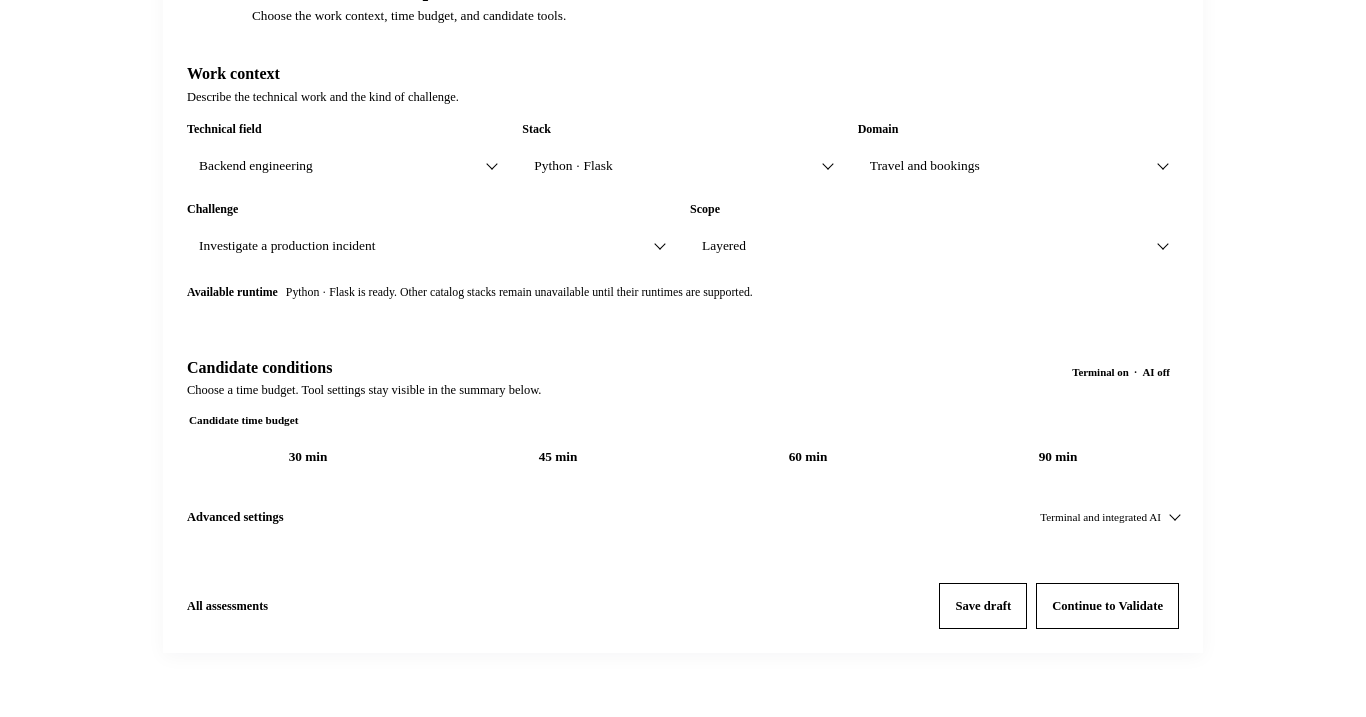
Test: assessment builder › confirms copied candidate links and exposes a selected fallback when clipboard access fails
The width and height of the screenshot is (1366, 717).
(page scrolled)
What coordinates should you click on to do the following:
click the button "Continue to Validate"
I would click on:
 (1108, 606)
Its box is [1036,584,1179,630].
(page scrolled)
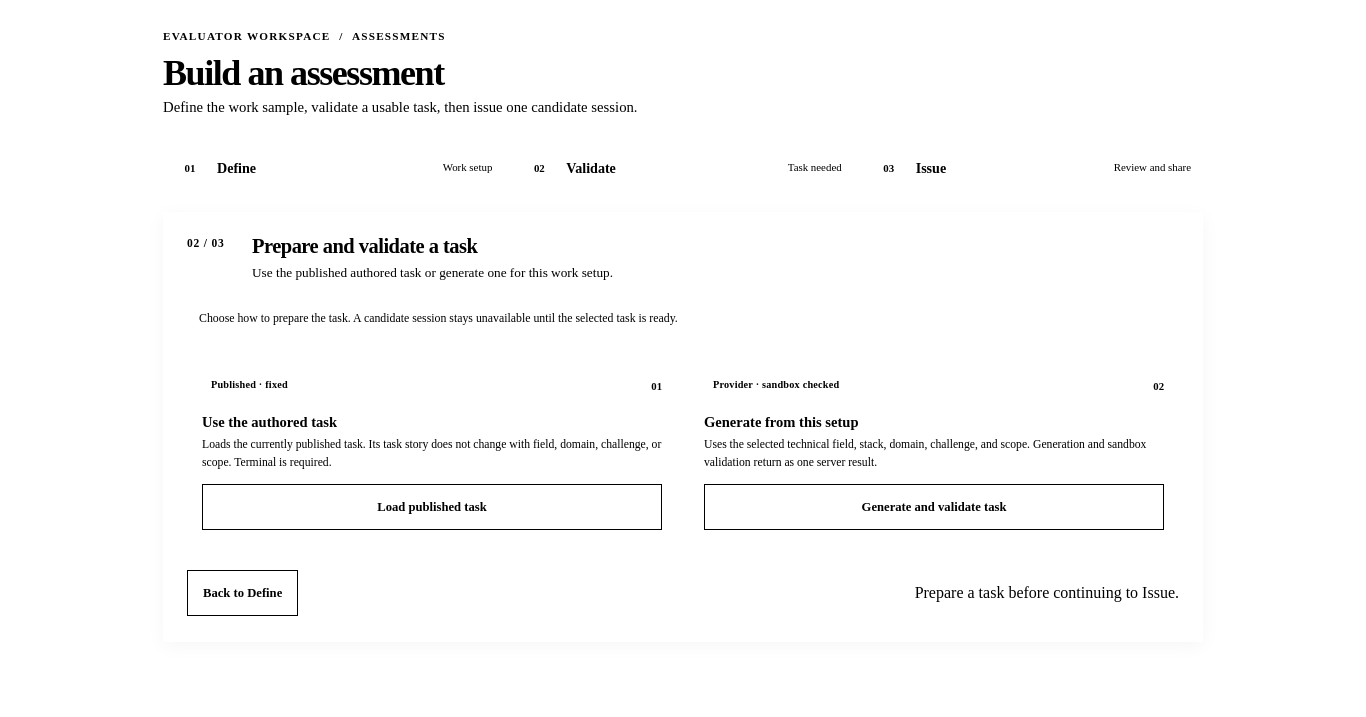
What coordinates should you click on to do the following:
click the button "Generate and validate task"
I would click on:
 (934, 507)
Its box is [704,484,1164,530].
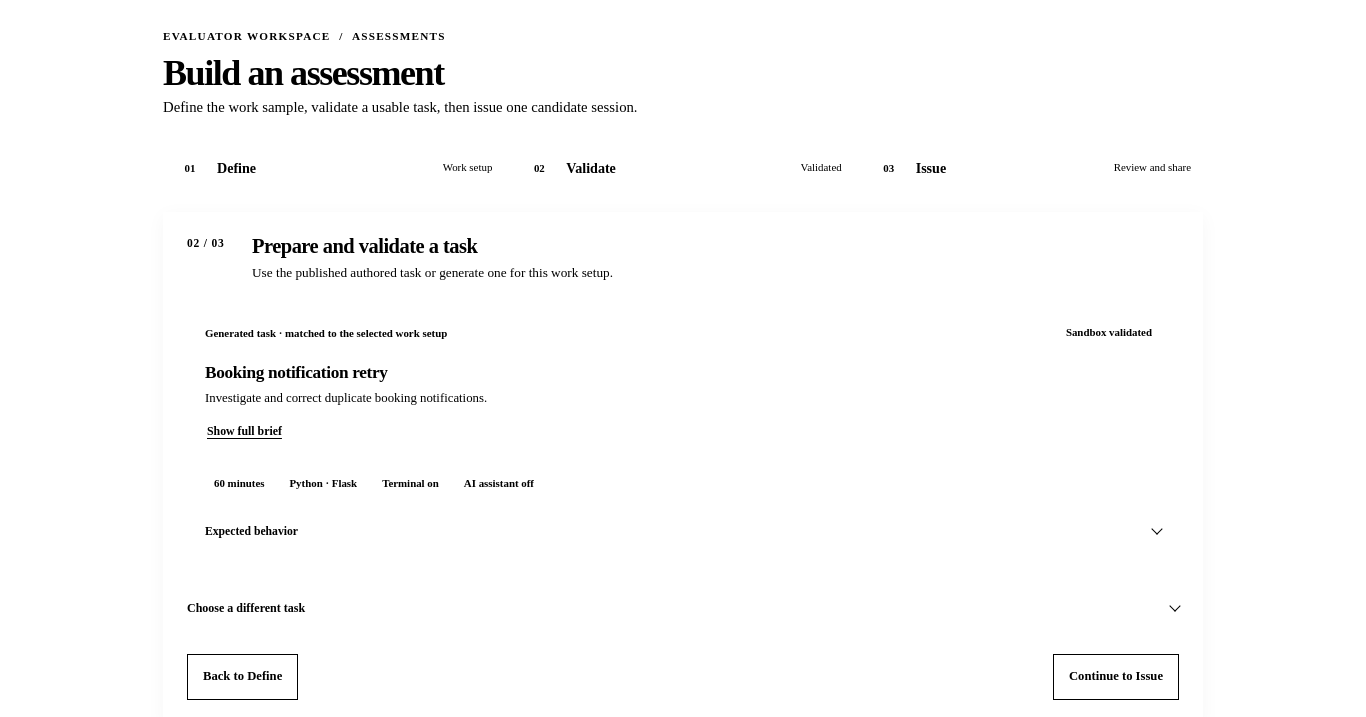
What coordinates should you click on to do the following:
click the button "03 Issue Review and share"
I would click on:
 (931, 168)
Its box is [862,139,1203,197].
(page scrolled)
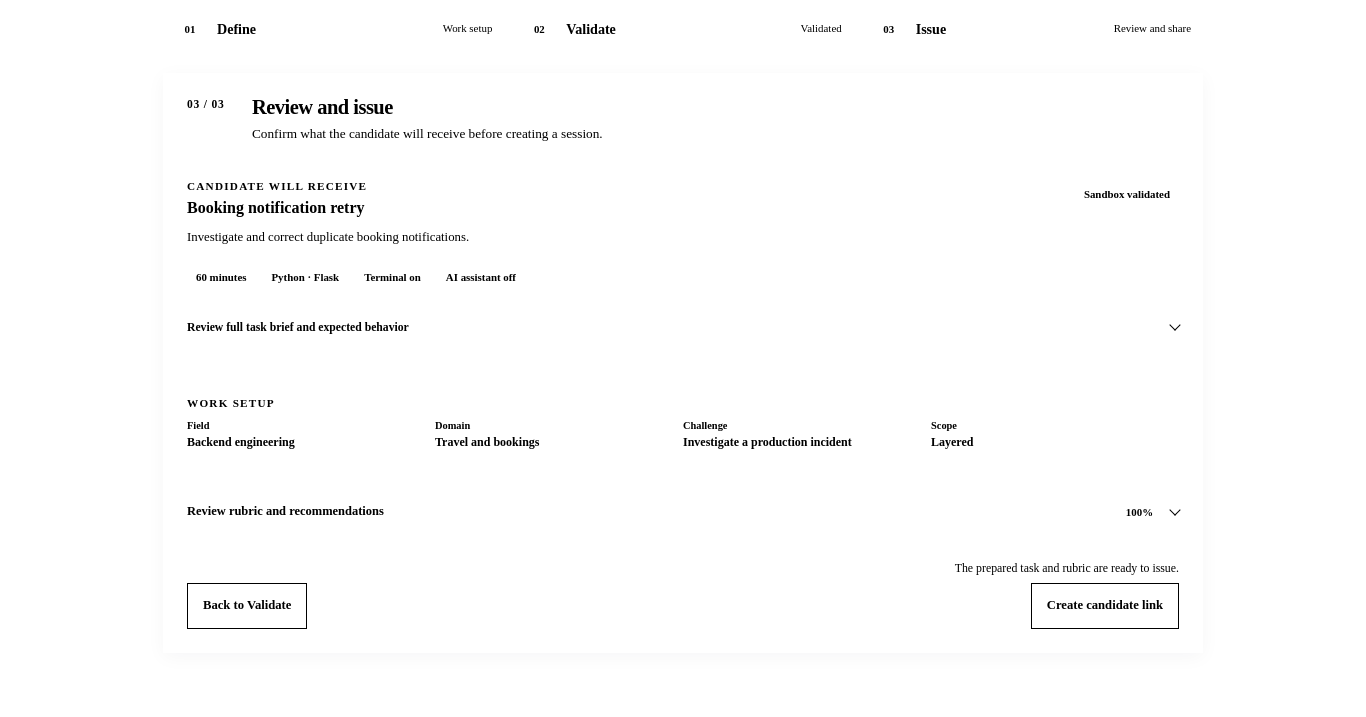
What coordinates should you click on to do the following:
click the button "Create candidate link"
I would click on:
 (1105, 606)
Its box is [1031,583,1179,629].
(page scrolled)
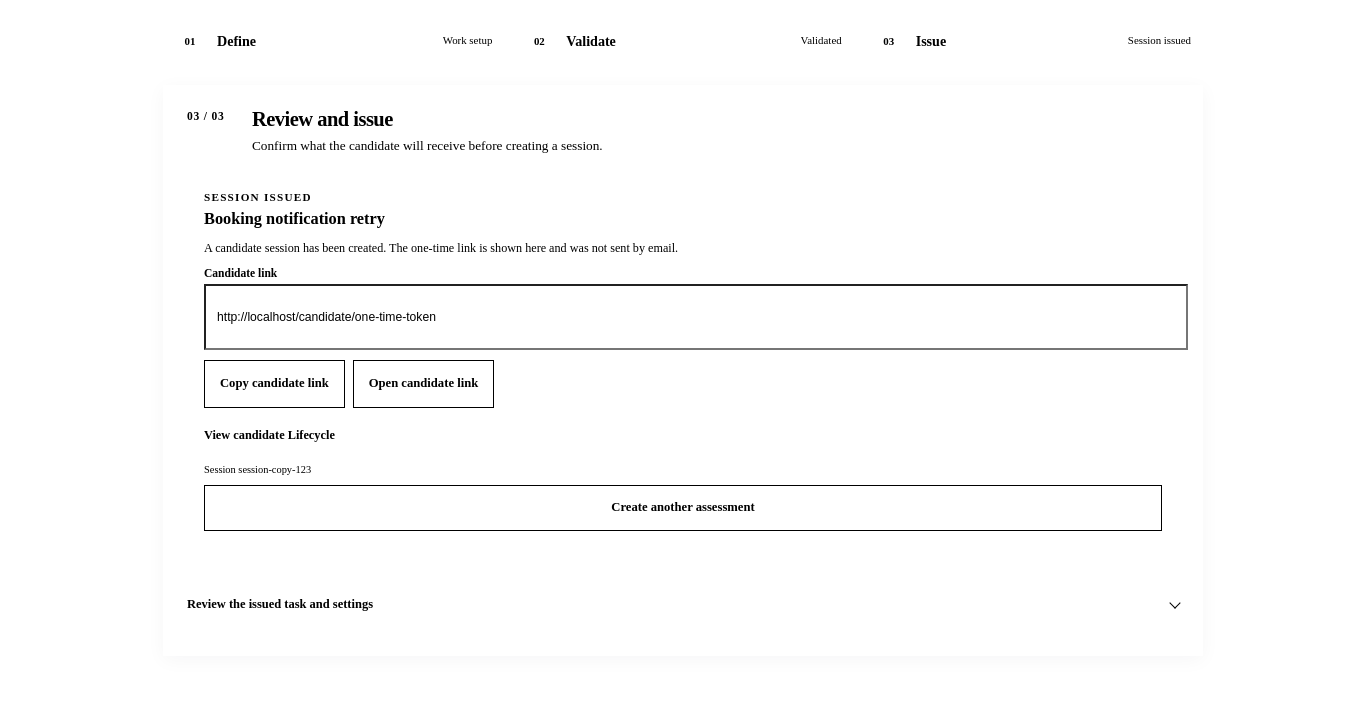
What coordinates should you click on to do the following:
click the button "Copy candidate link"
I would click on:
 (274, 384)
Its box is [204,360,345,408].
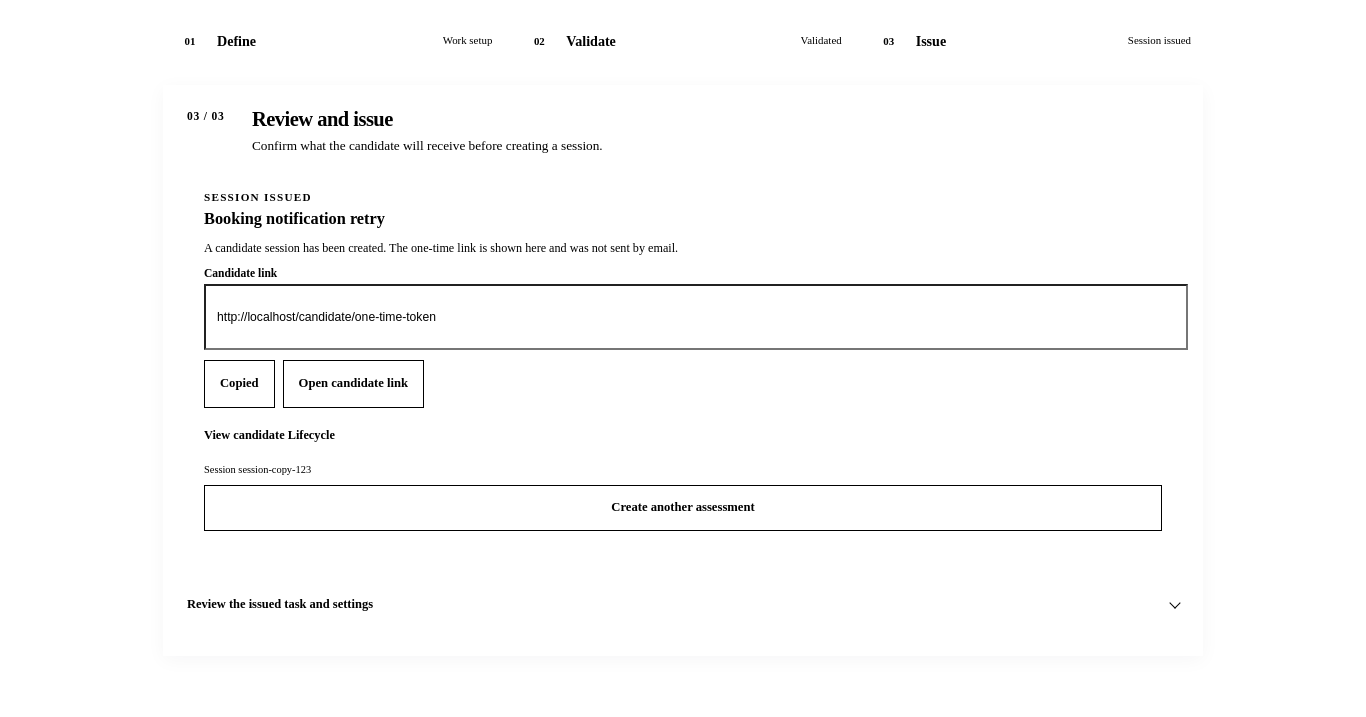
Expected: the button "Copied" is shown
What coordinates should you click on to do the following:
click the button "Copied"
I would click on:
 (239, 384)
Its box is [204,360,275,408].
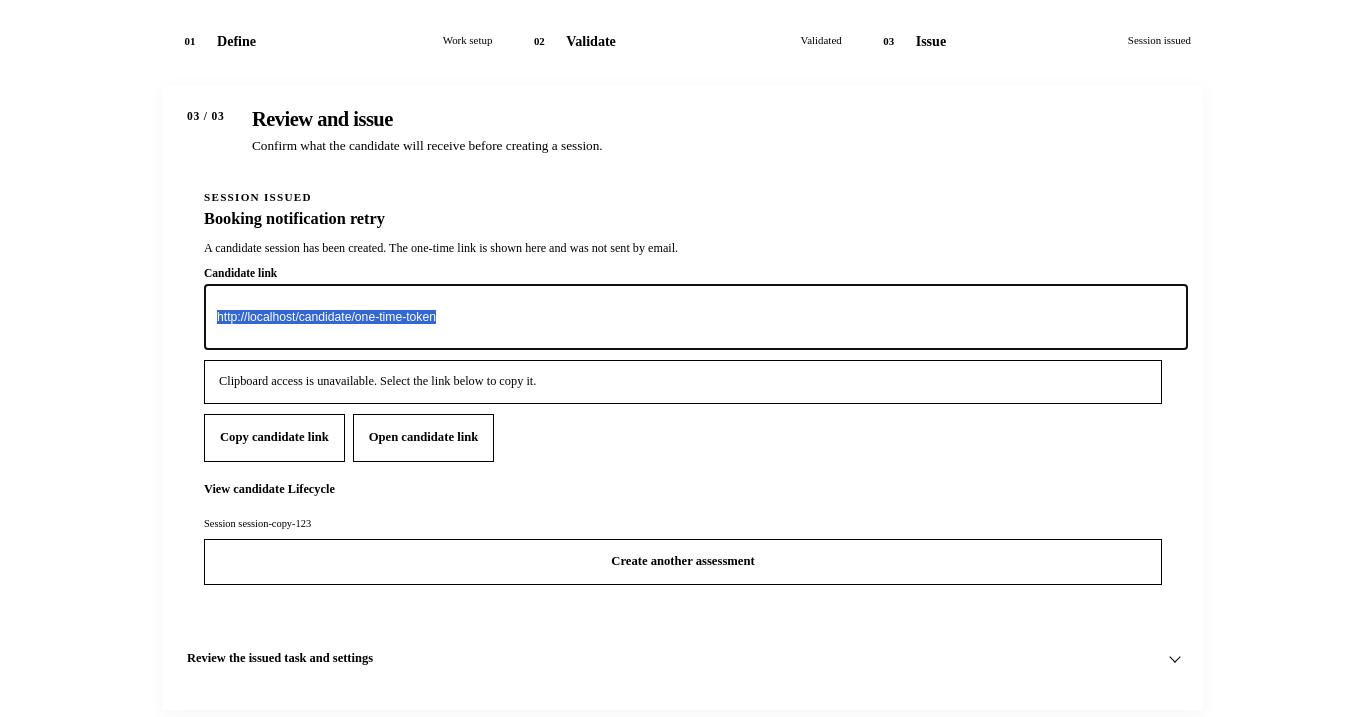
Expected: the text with class "assessment-kicker" reads "Session issued", [204,191,312,203]
Expected: the message "Clipboard access is unavailable. Select the link below to copy it." is shown, [204,360,1162,404]
